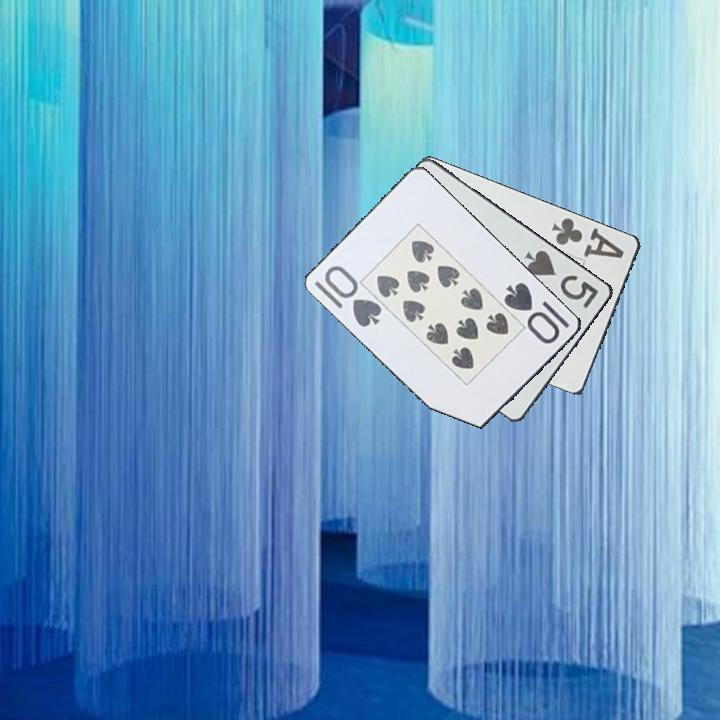5s: (521, 246, 602, 312)
Ac: (548, 212, 627, 261)
Ts: (500, 278, 573, 347), (311, 262, 385, 330)
